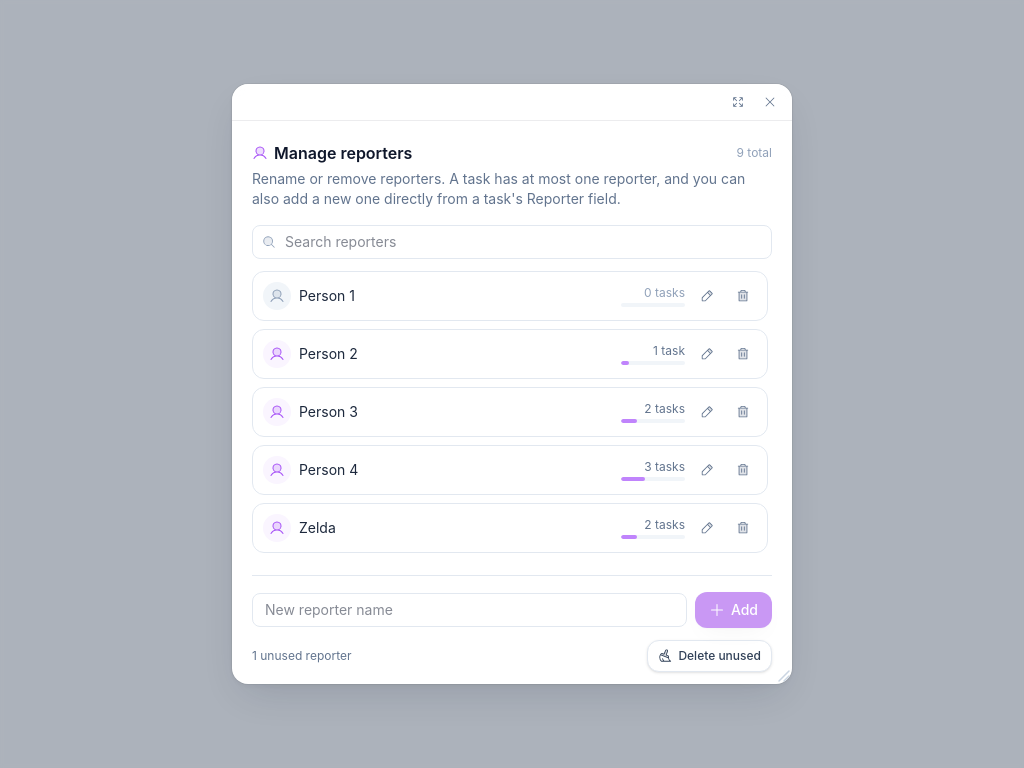
Scenario: ReporterManager › filters long lists by name
The image size is (1024, 768).
Type "zel" into the search field labelled "Search reporters".
click(512, 242); type("zel")  # box left=252, top=225, right=772, bottom=259
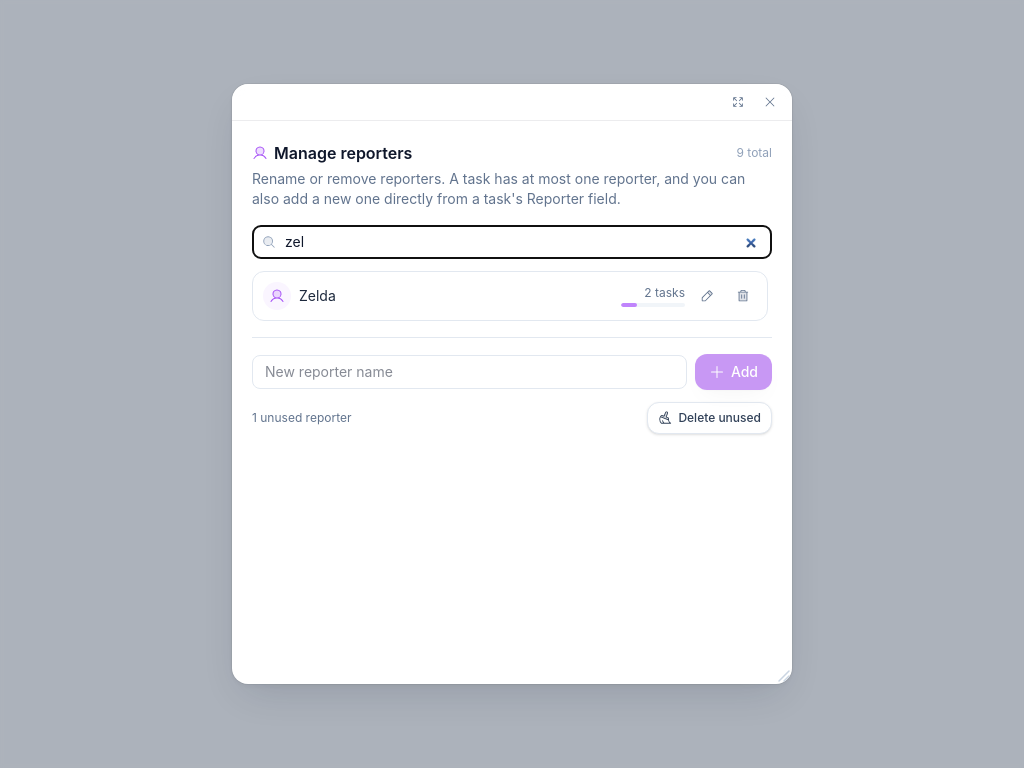
expect the button "Zelda" is shown: met, box left=299, top=286, right=613, bottom=306
expect the button "Person 1" is gone: met
Replace the text in the search field named "Search reporters" with "nobody" at (512, 242), box left=252, top=225, right=772, bottom=259
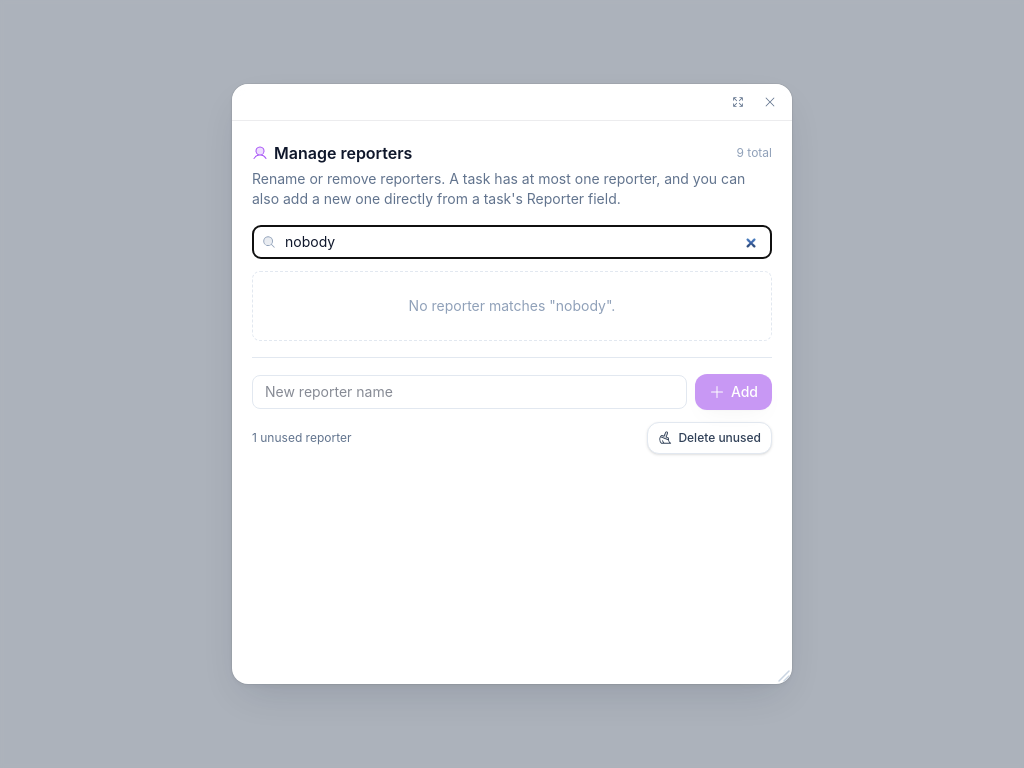
expect the text "No reporter matches \"nobody\"." is shown: met, box left=252, top=271, right=772, bottom=341
